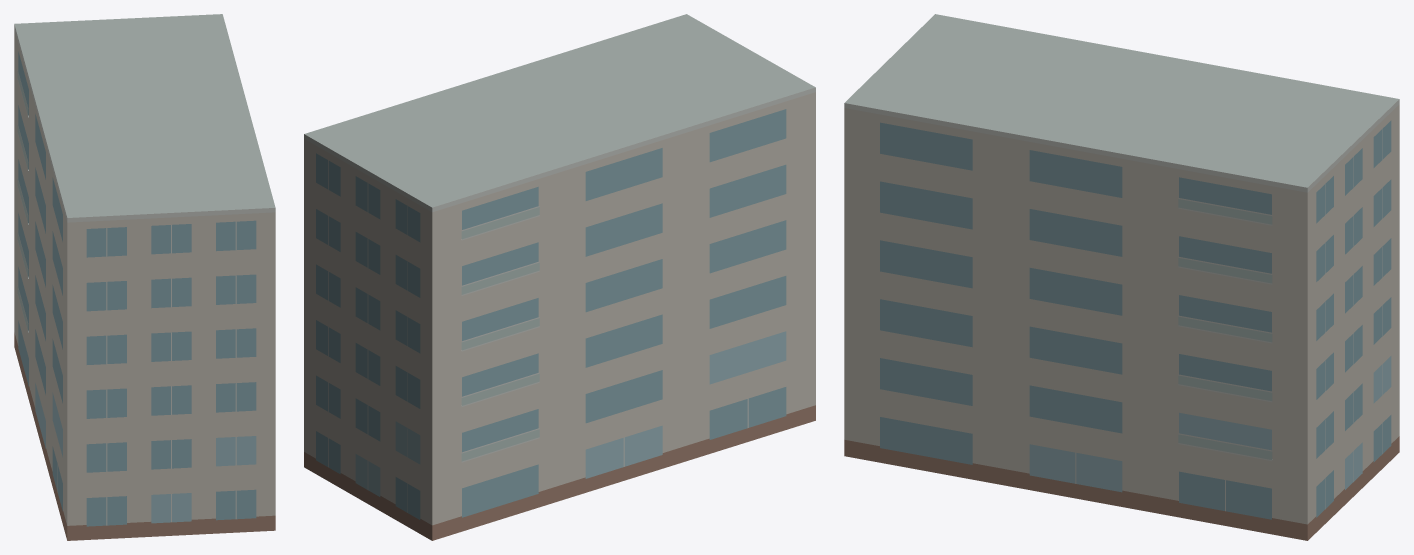
The model's file is survey-upis-32531306.glb.
3 views of the same model, side by side, from view 1: azimuth 30°, elevation 25°; view 2: azimuth 150°, elevation 25°; view 3: azimuth 270°, elevation 25° (orthographic). The views are drawn at different scales.
Parts seen in each view (by area): view 1: survey-upis-32531306.tmp; view 2: survey-upis-32531306.tmp; view 3: survey-upis-32531306.tmp.
Part boxes in pixels (box(x1,y1,x2,y2)): survey-upis-32531306.tmp: box(14, 14, 275, 540); survey-upis-32531306.tmp: box(304, 14, 815, 540); survey-upis-32531306.tmp: box(844, 14, 1399, 540).
Bounding box in the file's own units: 18.37 × 17.4 × 24.81.
